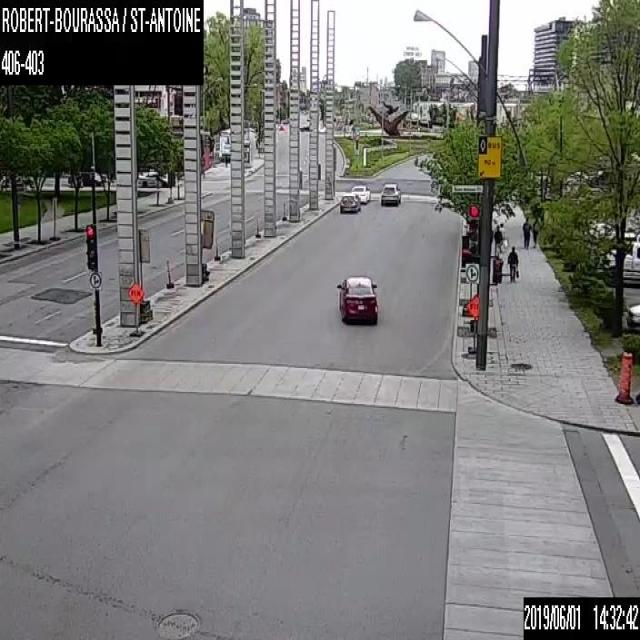construction: (138, 227, 152, 322), (614, 350, 634, 402), (126, 280, 144, 337), (200, 208, 214, 280), (465, 294, 479, 358)
pedestrian: (506, 242, 519, 282), (522, 215, 532, 248), (532, 215, 541, 249), (493, 222, 502, 255)
vehicle: (336, 273, 378, 323), (603, 240, 639, 282), (68, 170, 103, 186), (380, 180, 401, 205), (610, 231, 639, 249), (136, 170, 166, 186), (589, 220, 615, 238), (340, 192, 360, 212), (350, 183, 370, 203), (627, 302, 639, 327), (277, 122, 285, 129)
